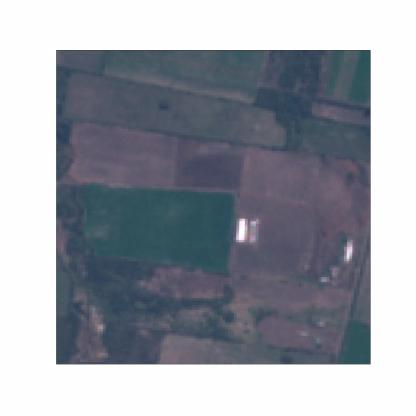silobolsa: (343, 240, 354, 266), (238, 216, 245, 242)
